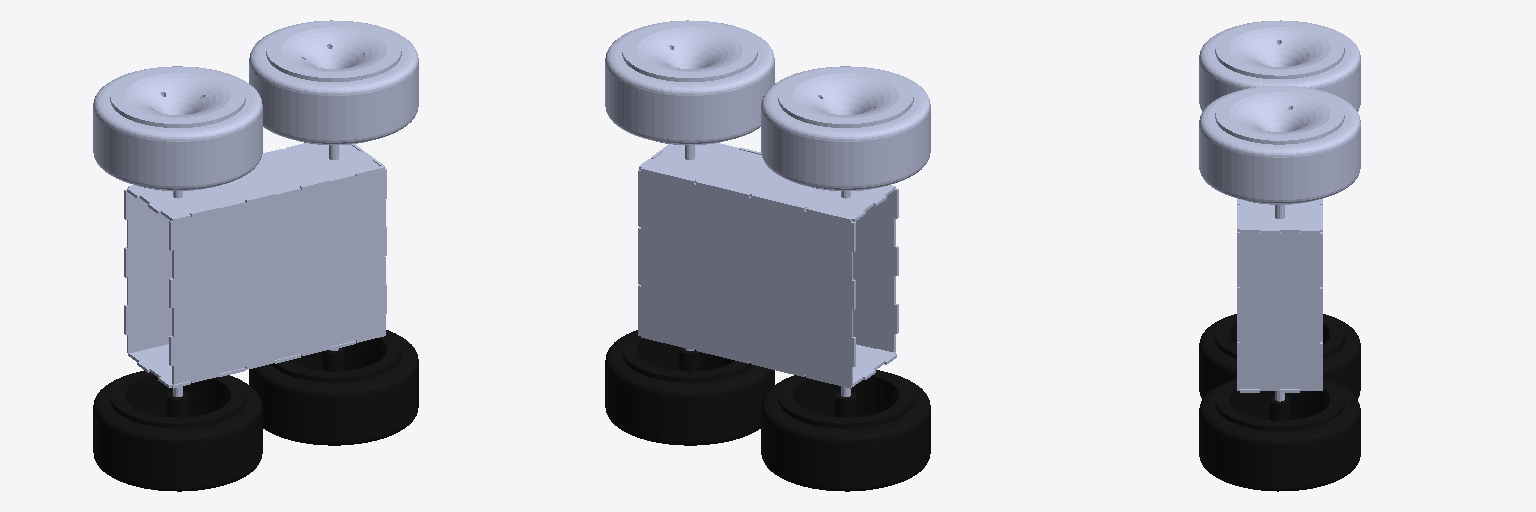
The robot description file, URDF, robot "GRINErobot":
<?xml version="1.0" encoding="utf-8"?>
<!-- This URDF was automatically created by SolidWorks to URDF Exporter! Originally created by [author] ([email redacted]) 
     Commit Version: 1.6.0-4-g7f85cfe  Build Version: 1.6.7995.38578
     For more information, please see http://wiki.ros.org/sw_urdf_exporter -->
<robot
  name="GRINErobot">
  <link
    name="base_link">
    <inertial>
      <origin
        xyz="0.0145487134045962 -0.0230214869188445 0.289356226139772"
        rpy="0 0 0" />
      <mass
        value="0.448330208334565" />
      <inertia
        ixx="0.00119344494830626"
        ixy="5.7799801765053E-09"
        ixz="-1.73147858429719E-21"
        iyy="0.00170454585623885"
        iyz="-6.22021500000145E-07"
        izz="0.00271586316461472" />
    </inertial>
    <visual>
      <origin
        xyz="0 0 0"
        rpy="0 0 0" />
      <geometry>
        <mesh
          filename="package://GRINErobot/meshes/base_link.STL" />
      </geometry>
      <material
        name="">
        <color
          rgba="0.792156862745098 0.819607843137255 0.933333333333333 1" />
      </material>
    </visual>
    <collision>
      <origin
        xyz="0 0 0"
        rpy="0 0 0" />
      <geometry>
        <mesh
          filename="package://GRINErobot/meshes/base_link.STL" />
      </geometry>
    </collision>
  </link>
  <link
    name="roue RD Droit">
    <inertial>
      <origin
        xyz="1.24586462947607E-06 0.0332607087151624 3.55692141151831E-06"
        rpy="0 0 0" />
      <mass
        value="0.832123253787706" />
      <inertia
        ixx="0.00201213642608691"
        ixy="1.69882929904823E-08"
        ixz="-3.60650702842462E-08"
        iyy="0.00343084261481868"
        iyz="5.92280117814208E-08"
        izz="0.00201205937499501" />
    </inertial>
    <visual>
      <origin
        xyz="0 0 0"
        rpy="0 0 0" />
      <geometry>
        <mesh
          filename="package://GRINErobot/meshes/roue RD Droit.STL" />
      </geometry>
      <material
        name="">
        <color
          rgba="0.792156862745098 0.819607843137255 0.933333333333333 1" />
      </material>
    </visual>
    <collision>
      <origin
        xyz="0 0 0"
        rpy="0 0 0" />
      <geometry>
        <mesh
          filename="package://GRINErobot/meshes/roue RD Droit.STL" />
      </geometry>
    </collision>
  </link>
  <joint
    name="jointroue RD Droit"
    type="continuous">
    <origin
      xyz="0.088662 -0.28936 0.17708"
      rpy="-1.5708 0 3.1416" />
    <parent
      link="base_link" />
    <child
      link="roue RD Droit" />
    <axis
      xyz="0 1 0" />
  </joint>
  <link
    name="roue RA_droit">
    <inertial>
      <origin
        xyz="-2.43456755533167E-07 0.0332607087151625 3.7609303916164E-06"
        rpy="0 0 0" />
      <mass
        value="0.832123253787707" />
      <inertia
        ixx="0.00201215060499187"
        ixy="-7.51224780417534E-09"
        ixz="2.67354452712418E-09"
        iyy="0.00343084261481869"
        iyz="6.1156566374346E-08"
        izz="0.00201204519609006" />
    </inertial>
    <visual>
      <origin
        xyz="0 0 0"
        rpy="0 0 0" />
      <geometry>
        <mesh
          filename="package://GRINErobot/meshes/roue RA_droit.STL" />
      </geometry>
      <material
        name="">
        <color
          rgba="0.792156862745098 0.819607843137255 0.933333333333333 1" />
      </material>
    </visual>
    <collision>
      <origin
        xyz="0 0 0"
        rpy="0 0 0" />
      <geometry>
        <mesh
          filename="package://GRINErobot/meshes/roue RA_droit.STL" />
      </geometry>
    </collision>
  </link>
  <joint
    name="joint roue RA_droit"
    type="continuous">
    <origin
      xyz="-0.081338 -0.28936 0.16888"
      rpy="-1.5708 0 -3.1416" />
    <parent
      link="base_link" />
    <child
      link="roue RA_droit" />
    <axis
      xyz="0 1 0" />
  </joint>
  <link
    name="roue RG">
    <inertial>
      <origin
        xyz="-1.48009708614283E-07 -0.0332607109674042 -3.76597467516282E-06"
        rpy="0 0 0" />
      <mass
        value="0.832123229243822" />
      <inertia
        ixx="0.00201215063690755"
        ixy="5.93148275372737E-09"
        ixz="6.73292538413164E-13"
        iyy="0.00343084269302358"
        iyz="6.13774784990445E-08"
        izz="0.00201204509247169" />
    </inertial>
    <visual>
      <origin
        xyz="0 0 0"
        rpy="0 0 0" />
      <geometry>
        <mesh
          filename="package://GRINErobot/meshes/roue RG.STL" />
      </geometry>
      <material
        name="">
        <color
          rgba="0.109803921568627 0.109803921568627 0.109803921568627 1" />
      </material>
    </visual>
    <collision>
      <origin
        xyz="0 0 0"
        rpy="0 0 0" />
      <geometry>
        <mesh
          filename="package://GRINErobot/meshes/roue RG.STL" />
      </geometry>
    </collision>
  </link>
  <joint
    name="joint roue RG"
    type="continuous">
    <origin
      xyz="-0.081338 -0.28936 -0.21312"
      rpy="-1.5708 0 3.1416" />
    <parent
      link="base_link" />
    <child
      link="roue RG" />
    <axis
      xyz="0 1 0" />
  </joint>
  <link
    name="roue RGD">
    <inertial>
      <origin
        xyz="2.0617092415659E-06 -0.0332607109674041 -3.15496864128351E-06"
        rpy="0 0 0" />
      <mass
        value="0.832123229243821" />
      <inertia
        ixx="0.00201211519386987"
        ixy="-3.07334199838E-08"
        ixz="4.98458272823439E-08"
        iyy="0.00343084269302357"
        iyz="5.34587153651947E-08"
        izz="0.00201208053550937" />
    </inertial>
    <visual>
      <origin
        xyz="0 0 0"
        rpy="0 0 0" />
      <geometry>
        <mesh
          filename="package://GRINErobot/meshes/roue RGD.STL" />
      </geometry>
      <material
        name="">
        <color
          rgba="0.109803921568627 0.109803921568627 0.109803921568627 1" />
      </material>
    </visual>
    <collision>
      <origin
        xyz="0 0 0"
        rpy="0 0 0" />
      <geometry>
        <mesh
          filename="package://GRINErobot/meshes/roue RGD.STL" />
      </geometry>
    </collision>
  </link>
  <joint
    name="joint roue RGD"
    type="continuous">
    <origin
      xyz="0.088662 -0.28936 -0.20492"
      rpy="-1.5708 0 -3.1416" />
    <parent
      link="base_link" />
    <child
      link="roue RGD" />
    <axis
      xyz="0 1 0" />
  </joint>
</robot>

--- What the picture shows (computed from the rendered views, not written in the file) ---
The picture shows the robot from 3 angles, left to right: view 1: azimuth 30°, elevation 25°; view 2: azimuth 150°, elevation 25°; view 3: azimuth 270°, elevation 25°; orthographic projection.
Model GRINErobot with 5 links and 4 joints (4 continuous), rooted at base_link, posed every joint at zero.
Visible links, largest first — view 1: base_link, roue RA_droit, roue RD Droit, roue RG, roue RGD; view 2: base_link, roue RA_droit, roue RD Droit, roue RG, roue RGD; view 3: roue RD Droit, base_link, roue RGD, roue RA_droit, roue RG.
Link boxes in pixels (<box>): base_link: <box>124,143,386,396</box>; roue RA_droit: <box>93,66,262,190</box>; roue RD Droit: <box>249,20,418,144</box>; roue RG: <box>93,370,262,491</box>; roue RGD: <box>249,330,418,445</box>; base_link: <box>638,143,898,396</box>; roue RA_droit: <box>761,66,930,190</box>; roue RD Droit: <box>605,20,774,145</box>; roue RG: <box>761,370,930,491</box>; roue RGD: <box>605,330,774,445</box>; roue RD Droit: <box>1199,86,1360,204</box>; base_link: <box>1237,199,1322,401</box>; roue RGD: <box>1199,379,1360,491</box>; roue RA_droit: <box>1199,20,1360,111</box>; roue RG: <box>1199,314,1360,399</box>.
Size in the robot's own frame: 0.33 by 0.16 by 0.3902 metres.
5 mesh visuals loaded from 5 distinct referenced files (5 binary STL).